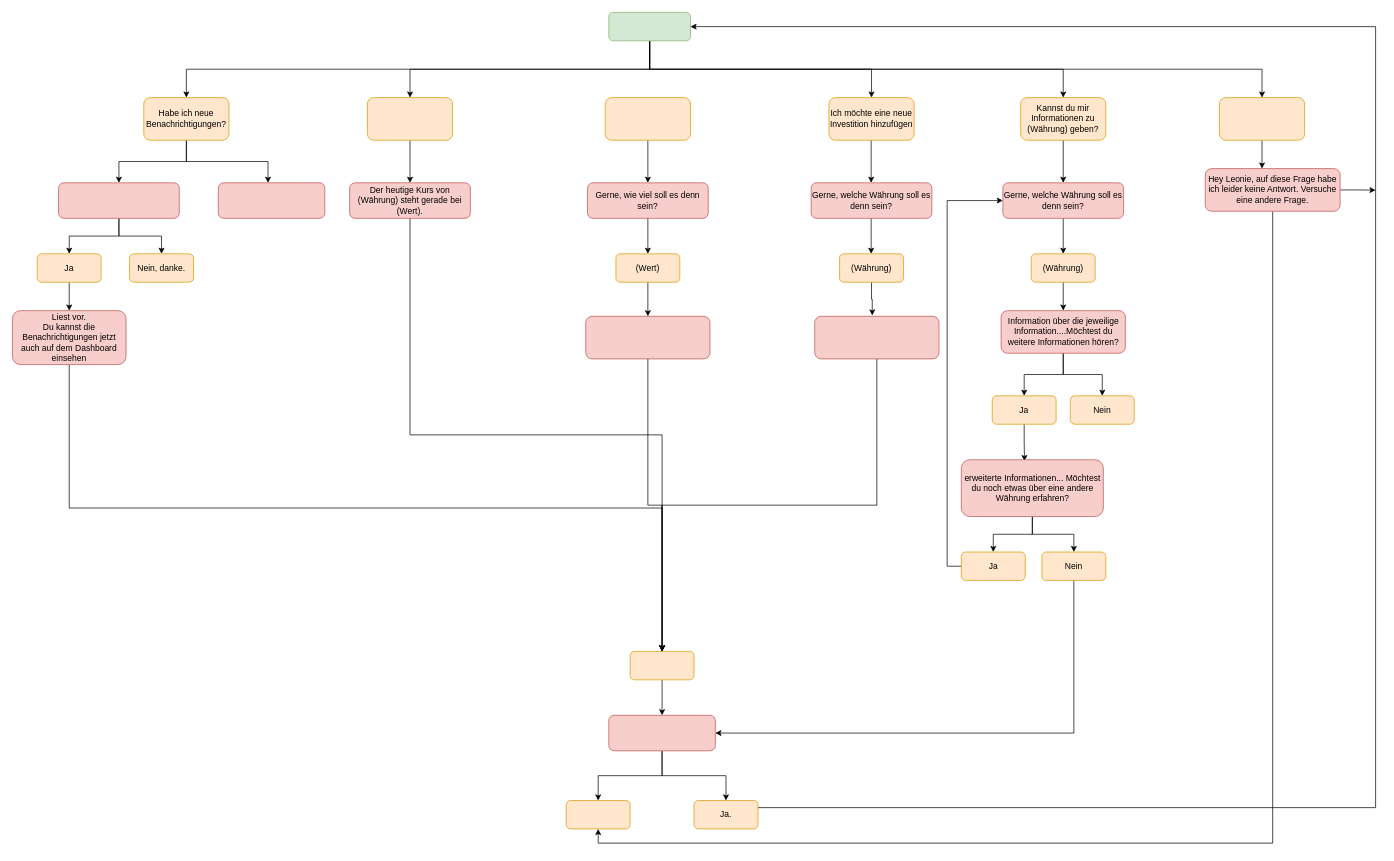
Image size: 1394x861. Some labels were removed from this diagram. The centre of each missing label's shape, as x and y in pixels:
"Danke!" goes at point (661, 665).
"Die neue Währung wurde hinzugefügt" goes at point (876, 337).
"Du hast (Wert) neue Benachrichtigungen. Soll ich sie dir vorlesen?" goes at point (118, 200).
"Du hast keine neuen Benachrichtigungen." goes at point (271, 200).
"Hallo Krypto!" goes at point (649, 26).
"Ich habe (Wert) hinzugefügt." goes at point (647, 337).
"Ich möchte mehr Geld investieren." goes at point (647, 118).
"Kann ich noch etwas für dich tun?" goes at point (661, 733).
"Nein." goes at point (598, 814).
"unbekannte Frage" goes at point (1262, 118).
"Wie steht der heutige Kurs von (Währung)?" goes at point (410, 118).
